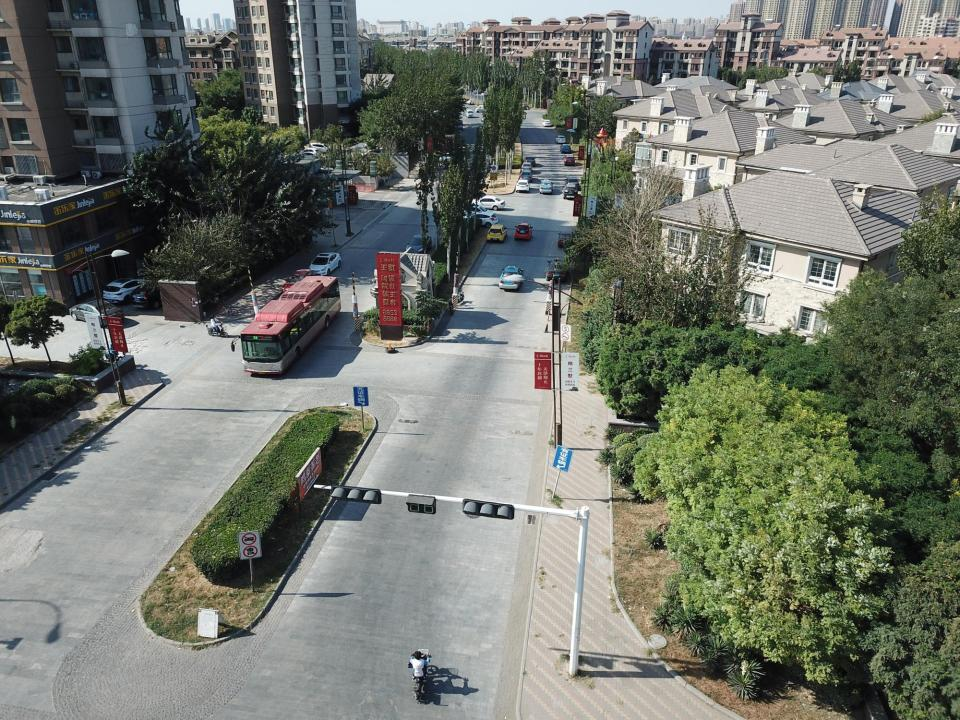bus: (231, 276, 341, 374)
car: (69, 298, 124, 326), (103, 278, 151, 302), (130, 279, 161, 308), (282, 268, 314, 294), (308, 252, 342, 276), (462, 212, 498, 228), (499, 266, 524, 289), (406, 234, 432, 254), (470, 196, 505, 210), (546, 259, 568, 281), (461, 205, 494, 216), (514, 222, 533, 241), (487, 224, 507, 242), (557, 230, 574, 248), (563, 183, 578, 199), (309, 142, 332, 152), (539, 179, 554, 194), (564, 177, 579, 190), (516, 180, 530, 193), (299, 148, 321, 156), (296, 152, 320, 159), (520, 170, 532, 181), (564, 155, 576, 166), (560, 144, 572, 154), (524, 156, 535, 166), (554, 136, 566, 144), (542, 119, 551, 126), (467, 99, 474, 105)
van: (475, 104, 490, 113), (522, 162, 532, 171), (466, 109, 472, 118)
